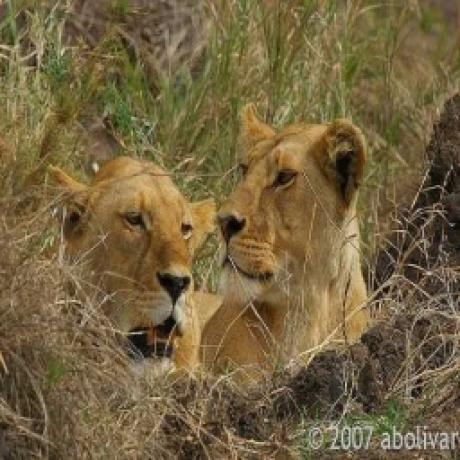Lion: (31, 149, 216, 392), (214, 106, 384, 363)
